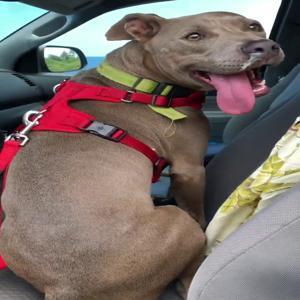nasal_discharge: (239, 38, 266, 72)
